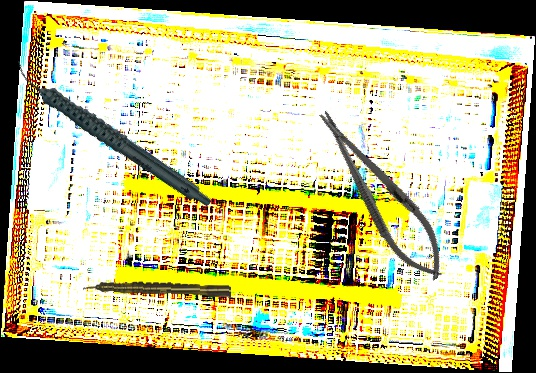Handpiece: (11, 27, 213, 242), (82, 279, 232, 299)
Needle Holder: (303, 98, 460, 291)
